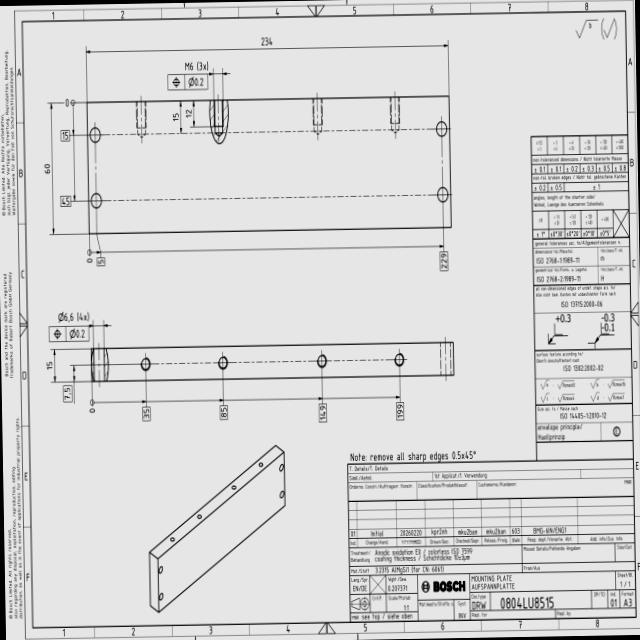dimension: (57, 310, 90, 323), (183, 60, 209, 71), (438, 250, 448, 272), (62, 384, 72, 403), (318, 402, 327, 423), (395, 400, 404, 420), (218, 403, 228, 420), (141, 404, 150, 422), (258, 36, 274, 46), (60, 194, 71, 207), (44, 359, 54, 372), (42, 162, 52, 174), (60, 129, 69, 141), (171, 110, 179, 123), (96, 257, 105, 268), (184, 108, 192, 120)
